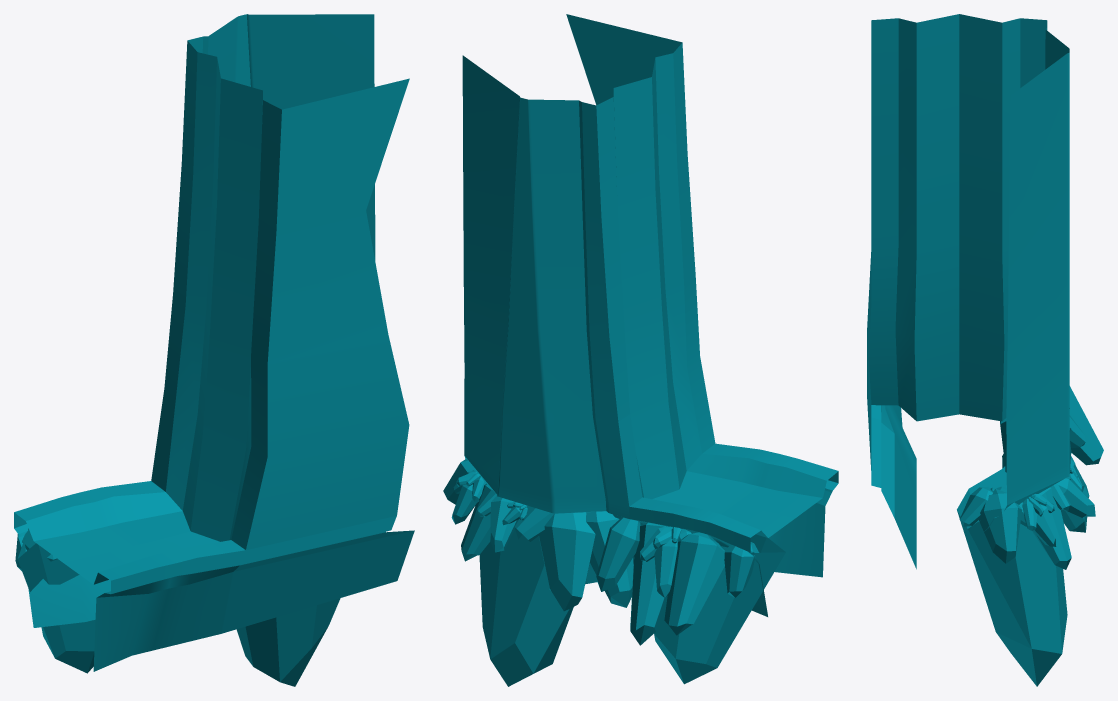
File: Wall_left.fbx
3 renders of one model, left to right at view 1: azimuth 30°, elevation 25°; view 2: azimuth 150°, elevation 25°; view 3: azimuth 270°, elevation 25°, orthographic. The views are drawn at different scales.
Visible parts, largest first — view 1: Wall_Left_Comb; view 2: Wall_Left_Comb; view 3: Wall_Left_Comb.
Boxes of the visible parts, x1,y1,x2,y2 form: Wall_Left_Comb: [14, 14, 414, 686]; Wall_Left_Comb: [443, 14, 838, 686]; Wall_Left_Comb: [867, 14, 1103, 686].
Bounding box in the file's own units: 3.07 × 5.24 × 1.81.
